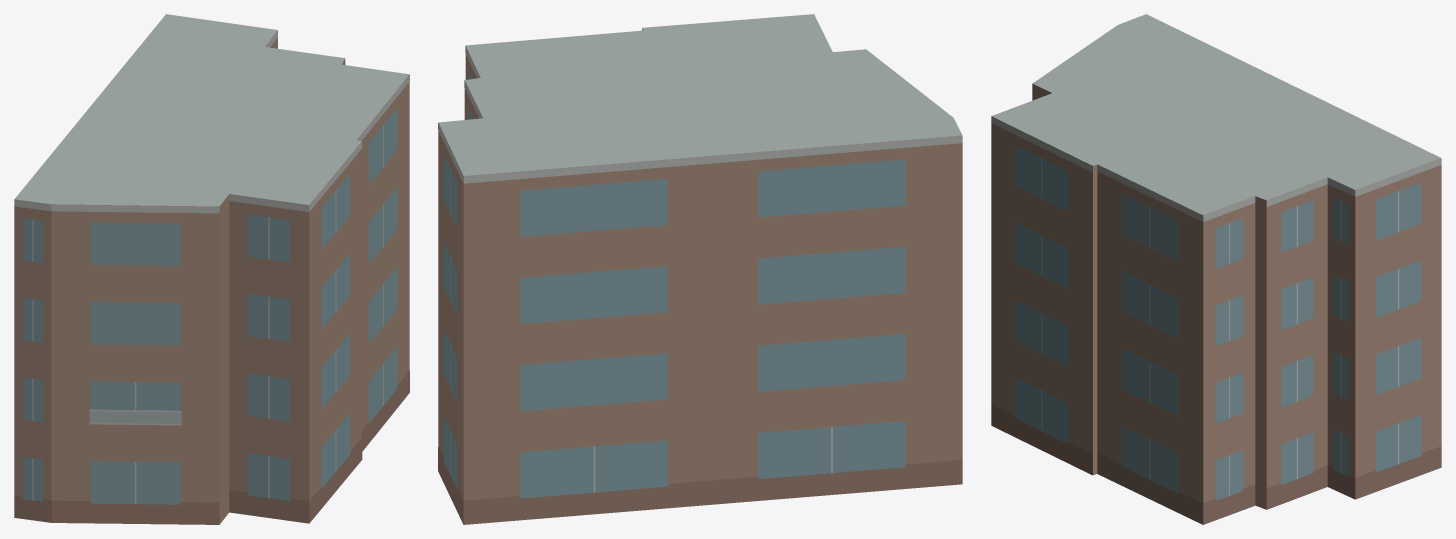
Rendered from survey-upis-32559853.glb.
3 renders of one model, left to right at view 1: azimuth 30°, elevation 25°; view 2: azimuth 150°, elevation 25°; view 3: azimuth 270°, elevation 25°, orthographic. The views are drawn at different scales.
Visible parts, largest first — view 1: survey-upis-32559853.tmp; view 2: survey-upis-32559853.tmp; view 3: survey-upis-32559853.tmp.
Part boxes in pixels (left/top/right/bottom): survey-upis-32559853.tmp: left=14, top=14, right=409, bottom=524; survey-upis-32559853.tmp: left=438, top=14, right=962, bottom=524; survey-upis-32559853.tmp: left=991, top=14, right=1441, bottom=524.
Bounding box in the file's own units: 15.5 × 11.1 × 14.64.
